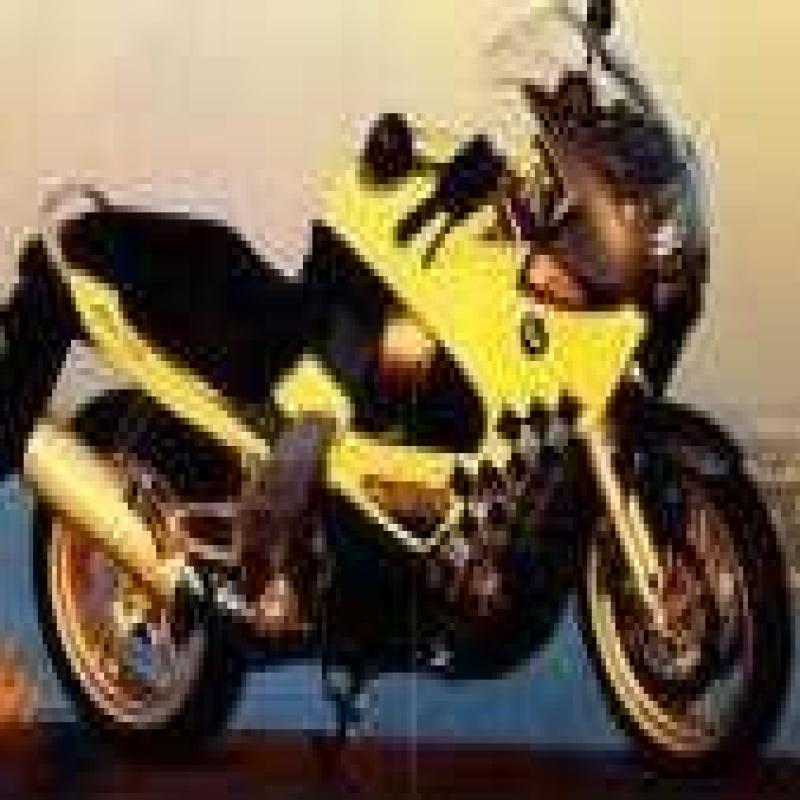bike: (0, 11, 800, 776)
